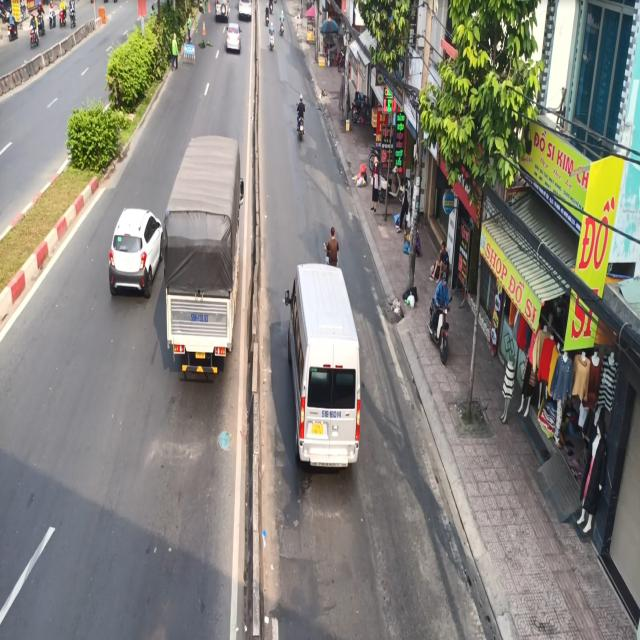car: (286, 260, 362, 478), (106, 199, 164, 308), (224, 21, 243, 61)
motor: (295, 89, 309, 145)
truck: (160, 128, 248, 384)
